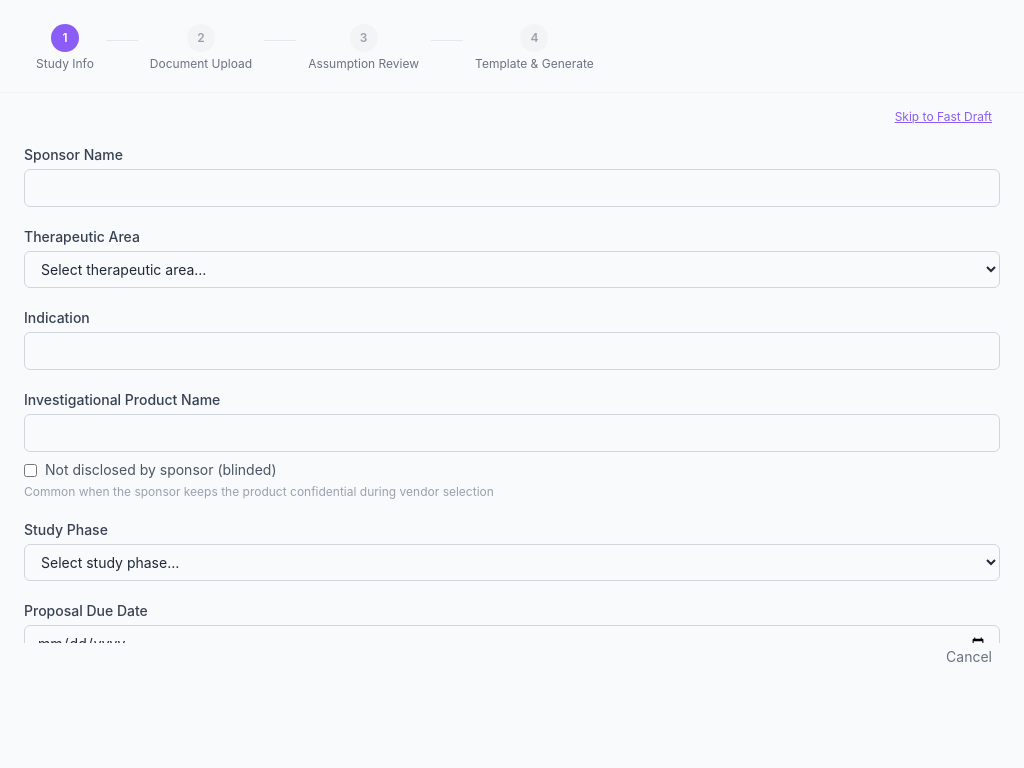
Test: ProposalCreationWizard › REQ-1.5: Skip to Fast Draft button jumps to Step 4 (Generate) from Step 1
What coordinates should you click on to do the following:
click the button with test id "skip-to-fast-draft"
I would click on:
 (943, 117)
Its box is [887,105,1000,129].
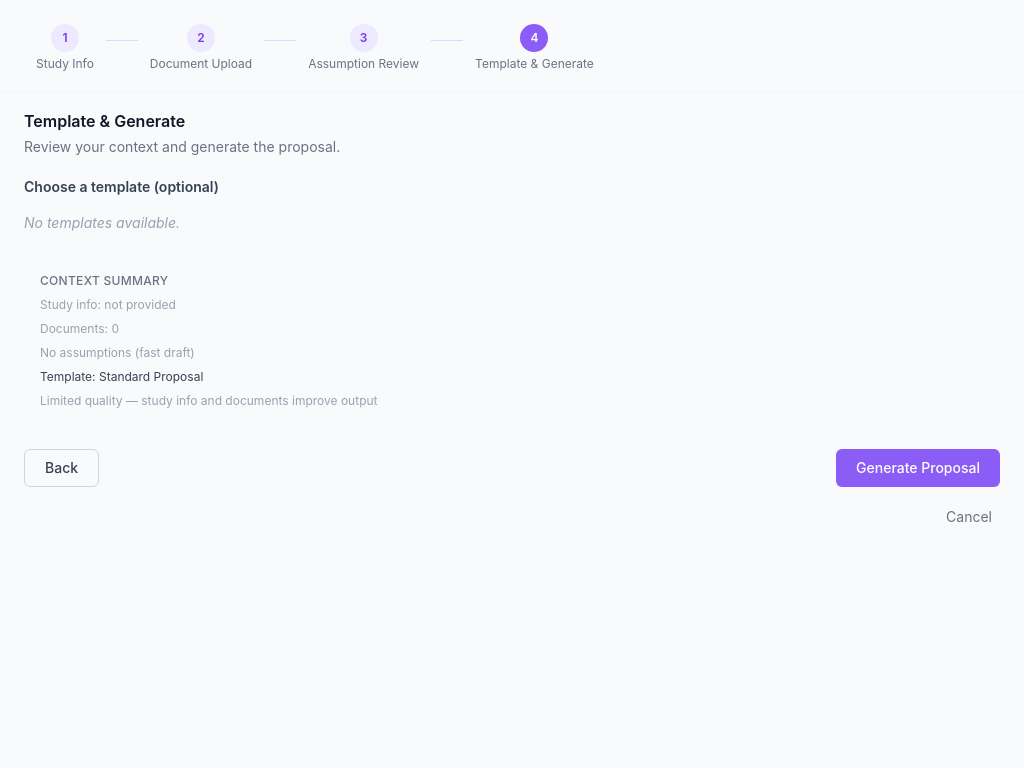
Result: the element with test id "step-generate" is shown at [24,109,1000,487]
Result: the button with test id "skip-to-fast-draft" is gone
